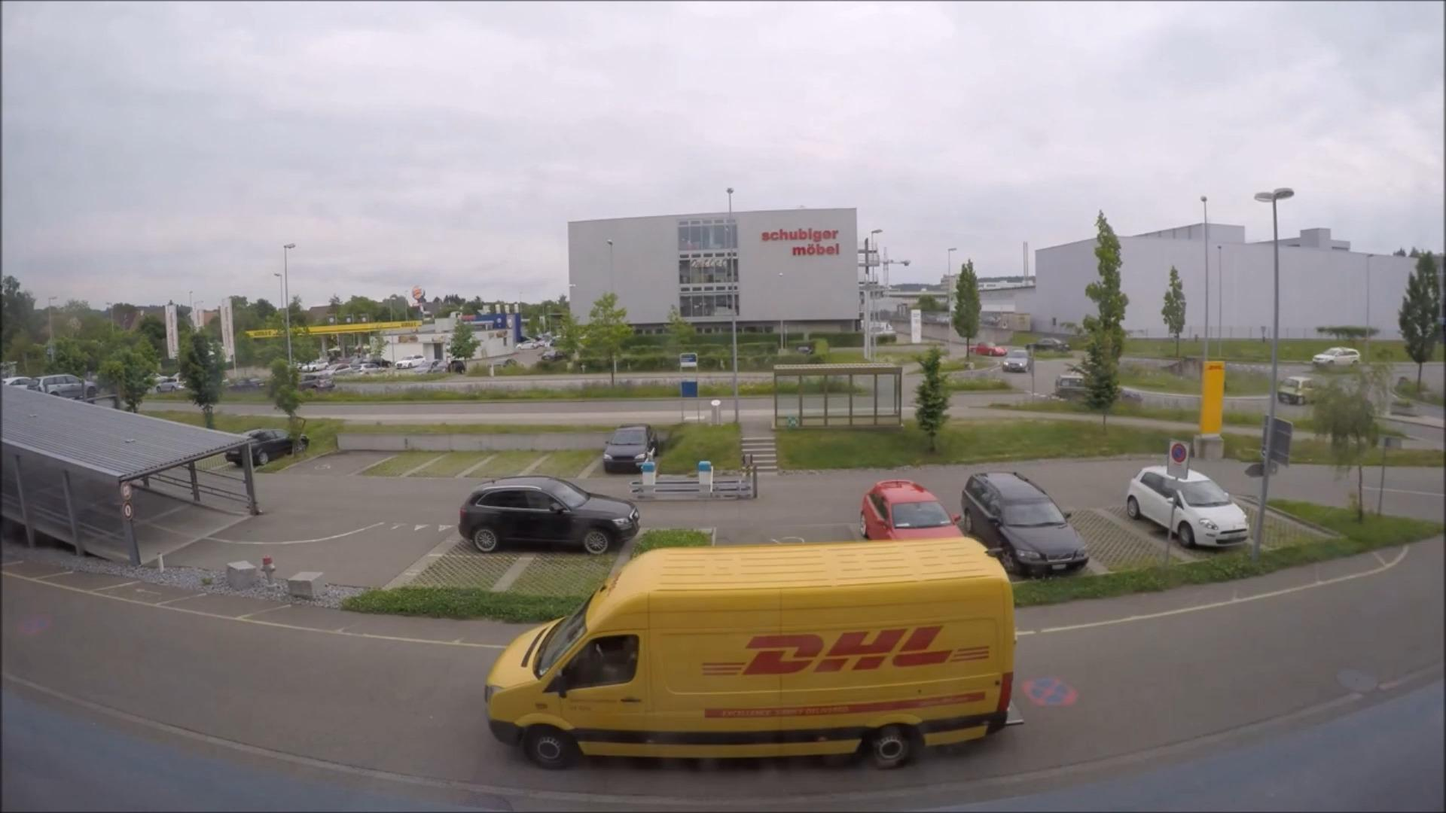occupied: (455, 474, 640, 555), (962, 469, 1092, 575), (1123, 465, 1250, 550), (862, 477, 963, 542), (222, 428, 308, 467), (601, 424, 658, 472), (31, 373, 91, 400), (1277, 375, 1319, 405), (1054, 367, 1090, 399), (1311, 347, 1360, 367), (1003, 349, 1032, 373), (298, 375, 337, 391), (1030, 337, 1071, 352), (228, 377, 266, 390), (974, 343, 1008, 357), (154, 380, 188, 393), (3, 376, 34, 388), (541, 350, 567, 362)
